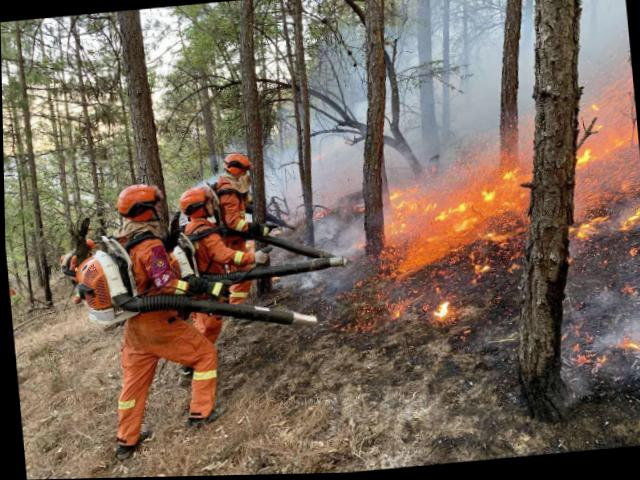fire: (371, 91, 639, 389)
